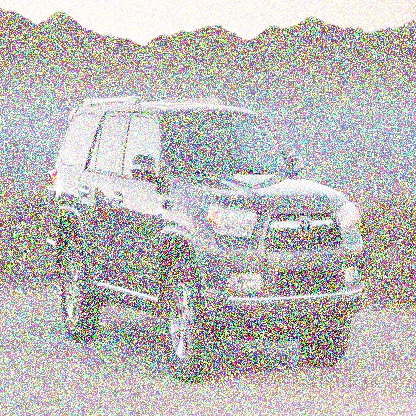Vehicle: (45, 95, 366, 382)
